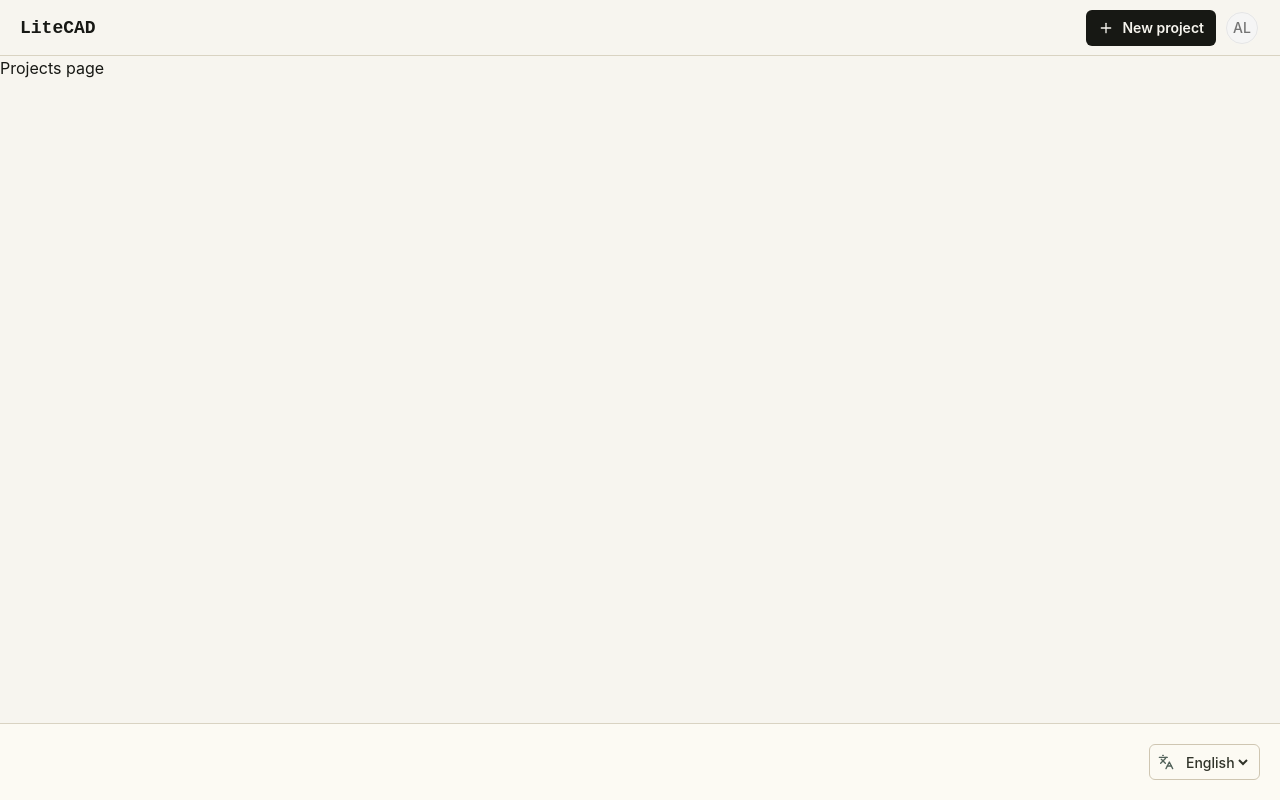
Test: MainLayout › keeps the account signed in when logout fails
Step 1. Click the button with aria-label "Open account menu for Ada Lovelace" → point(1242, 28), box [1224,10,1260,46]
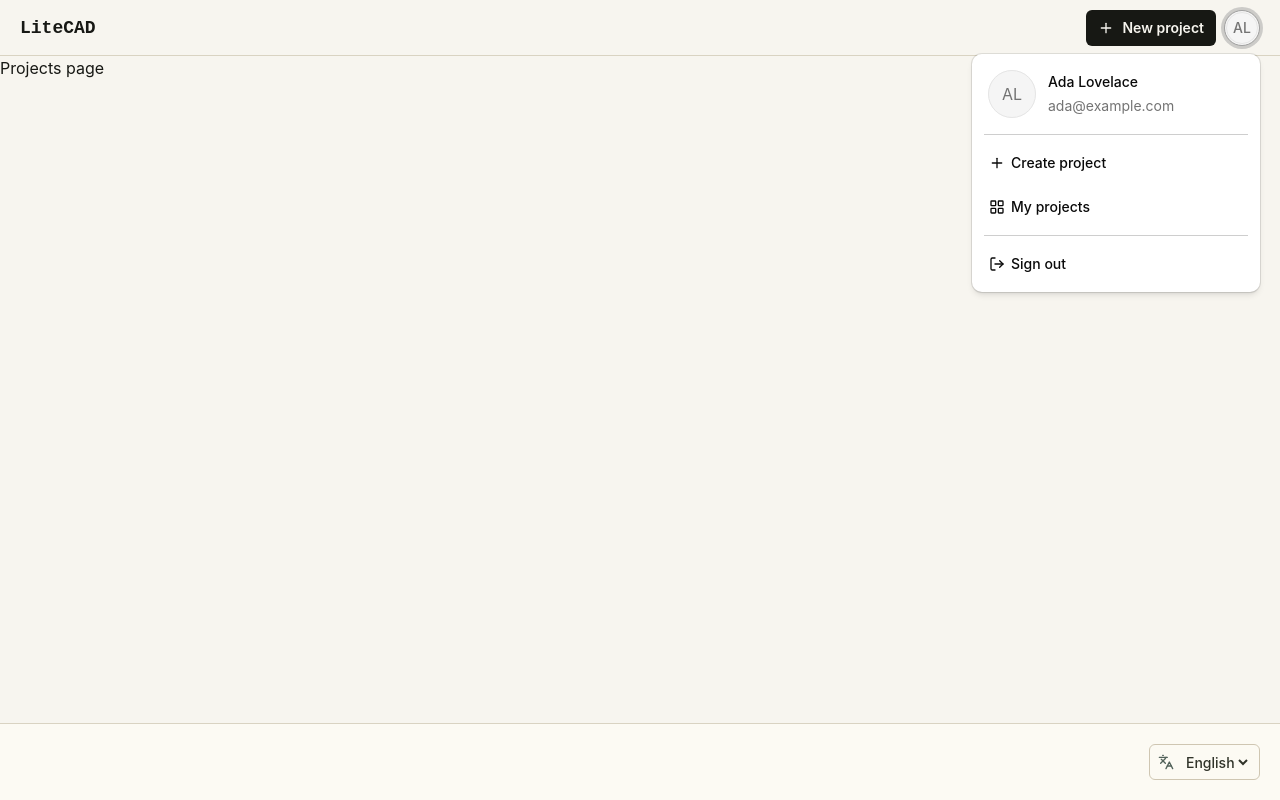
Step 2. Click the button "Sign out" → point(1039, 264), box [980,244,1252,284]
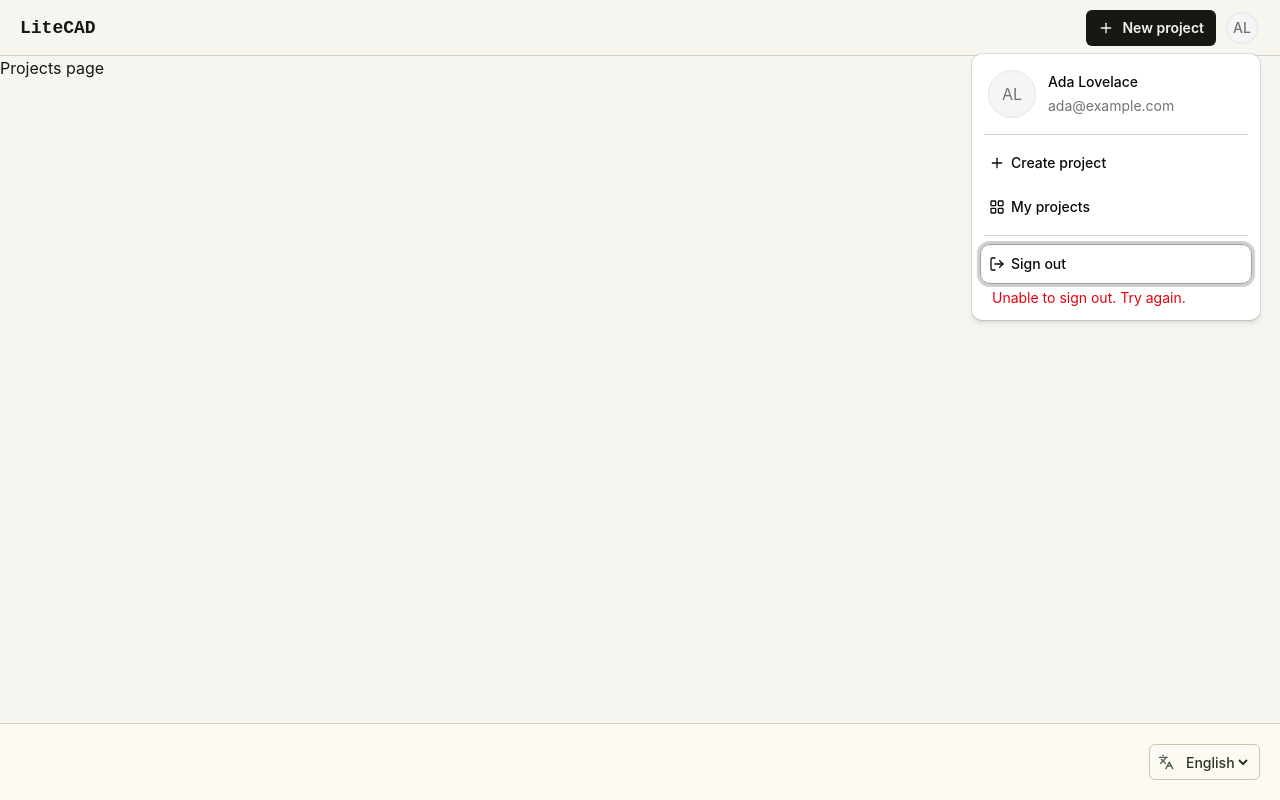
expect the button with aria-label "Open account menu for Ada Lovelace" is shown: met, box [1224,10,1260,46]
expect the message reads "Unable to sign out. Try again.": met, box [992,289,1186,306]
